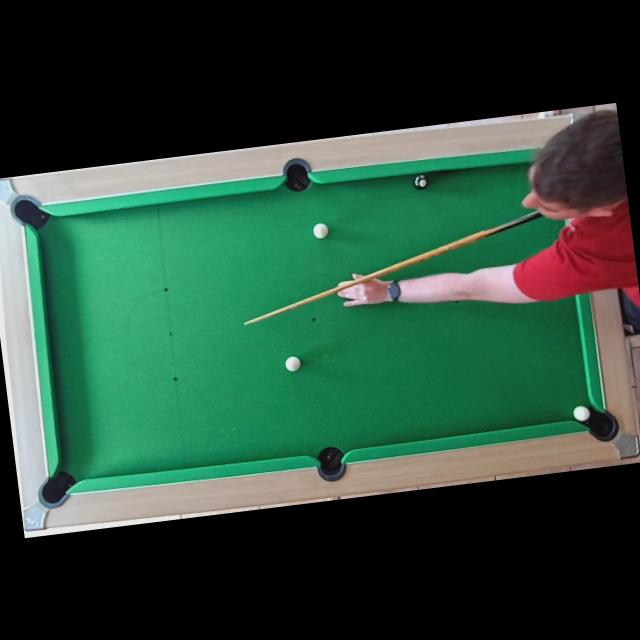Ball: (284, 354, 302, 371), (311, 222, 329, 239), (573, 404, 590, 422), (412, 172, 430, 189)
